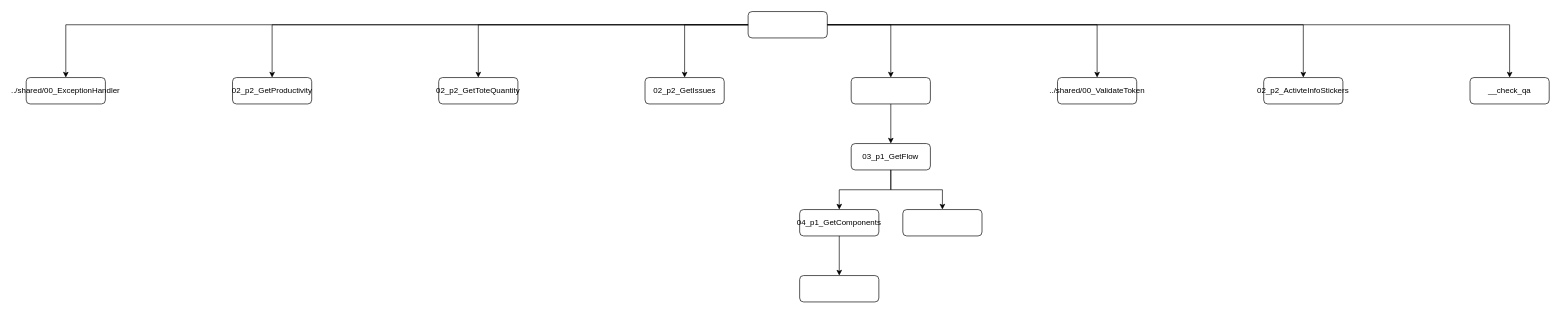
Some shapes in this 1561 by 314 pixel diagram are drawn without their labels. The shapes that lost their labels are listed below. From the top down, each one's centre as x and y in pixels, then its label:
point 787,24: 01_p2_InspectionOrchestration
point 890,90: 02_p2_GetIssueInstructions
point 942,222: 02_ConditionResolver
point 839,288: 00_GetShoeCare
